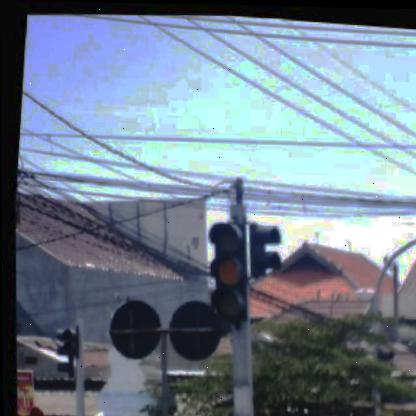Traffic Light -Yellow-: (201, 215, 249, 322)
